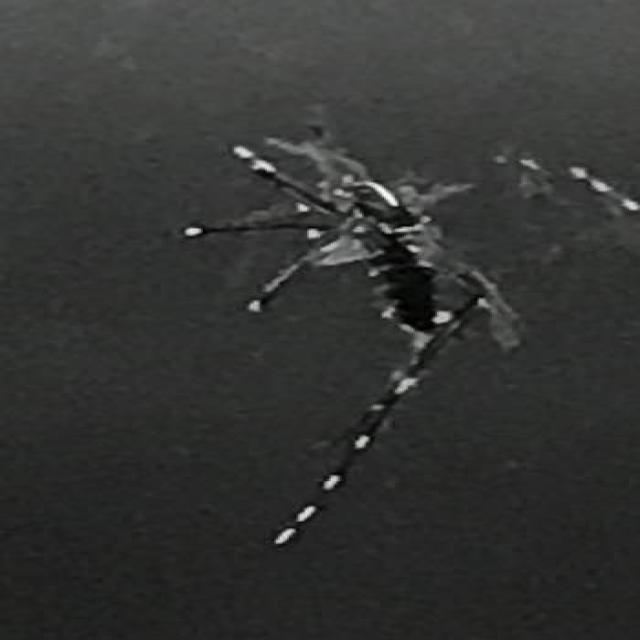albopictus: (161, 100, 536, 392)
